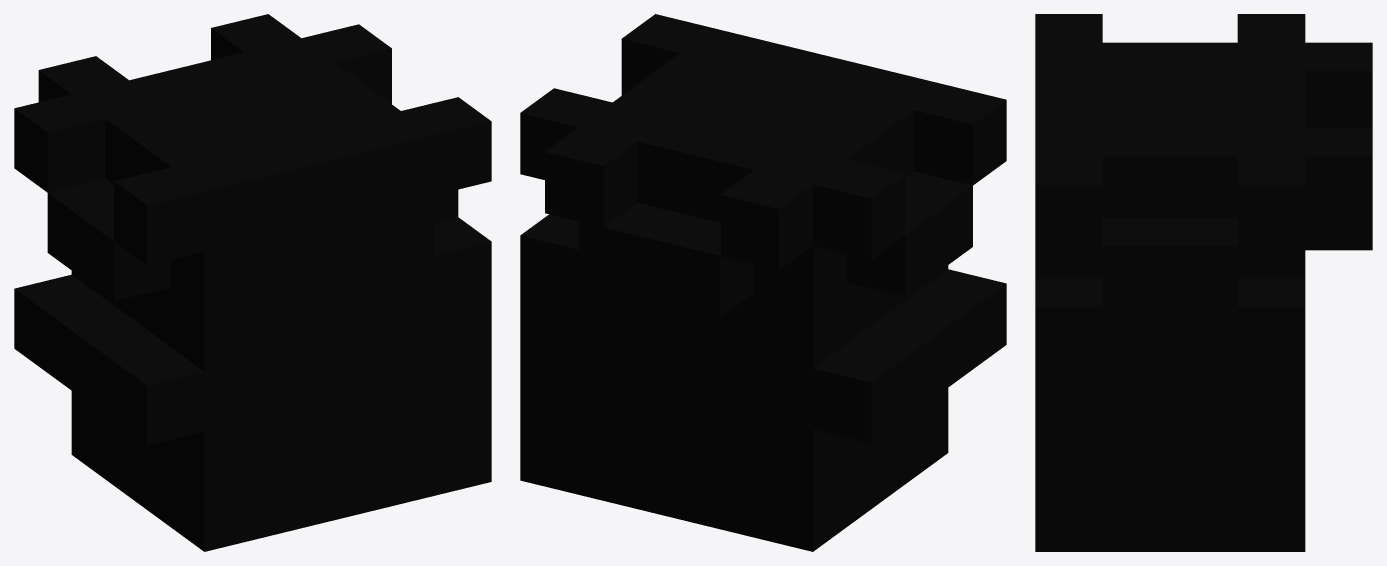
File: potato_left_boot.obj
The picture shows the model from 3 angles, left to right: view 1: azimuth 30°, elevation 25°; view 2: azimuth 150°, elevation 25°; view 3: azimuth 270°, elevation 25°; orthographic projection.
Visible parts, largest first — view 1: potato_left_boot; view 2: potato_left_boot; view 3: potato_left_boot.
Boxes of the visible parts, <box> form: potato_left_boot: <box>14,14,491,551</box>; potato_left_boot: <box>520,14,1006,551</box>; potato_left_boot: <box>1035,14,1372,551</box>.
Bounding box in the file's own units: 6 × 6 × 5.
